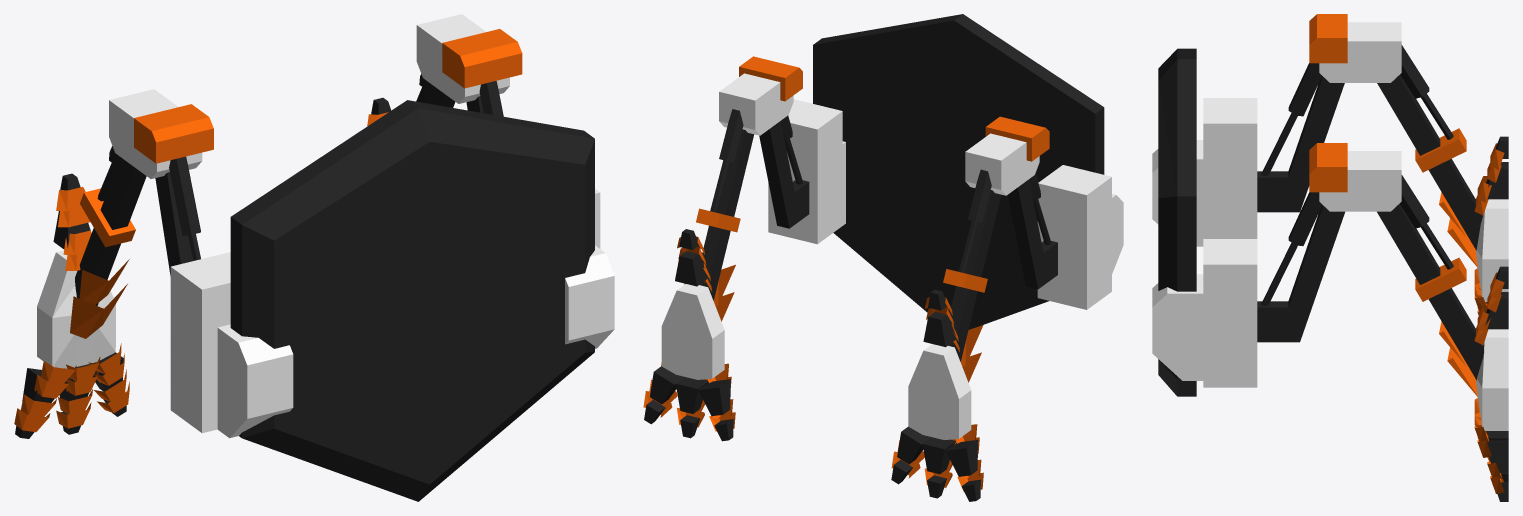
The model's file is BipedLegs.obj.
The picture shows the model from 3 angles, left to right: view 1: azimuth 30°, elevation 25°; view 2: azimuth 150°, elevation 25°; view 3: azimuth 270°, elevation 25°; orthographic projection. The views are drawn at different scales.
Parts seen in each view (by area): view 1: Base, Box002, BaseFoot, Box003, KneeCover001, KneeCover, LowerLeg, KneeJoint001, KneeJoint, Line001, UpperLegPiston, LowerLegPistonAttacher (+2 smaller); view 2: Base, Box002, Box003, BaseFoot001, BaseFoot, KneeJoint001, KneeJoint, Line001, Line008, LowerLeg001, LowerLeg, KneeCover (+15 smaller); view 3: Box003, Base, Box002, Line008, Line001, LowerLeg001, LowerLeg, KneeJoint, KneeJoint001, BaseFoot001, BaseFoot, KneeCover (+12 smaller).
Boxes of the visible parts, bbox=[...] form: Base: bbox=[230, 100, 594, 501]; Box002: bbox=[170, 252, 293, 438]; BaseFoot: bbox=[37, 250, 115, 368]; Box003: bbox=[565, 189, 614, 348]; KneeCover001: bbox=[442, 29, 522, 88]; KneeCover: bbox=[134, 104, 213, 163]; LowerLeg: bbox=[75, 157, 146, 305]; KneeJoint001: bbox=[416, 14, 509, 103]; KneeJoint: bbox=[109, 89, 202, 178]; Line001: bbox=[155, 172, 193, 275]; UpperLegPiston: bbox=[169, 156, 200, 260]; LowerLegPistonAttacher: bbox=[80, 188, 135, 247]; Base: bbox=[813, 14, 1104, 329]; Box002: bbox=[1037, 165, 1123, 309]; Box003: bbox=[768, 99, 845, 244]; BaseFoot001: bbox=[661, 284, 724, 379]; BaseFoot: bbox=[908, 344, 971, 439]; KneeJoint001: bbox=[719, 73, 793, 135]; KneeJoint: bbox=[965, 133, 1039, 195]; Line001: bbox=[1007, 179, 1057, 289]; Line008: bbox=[759, 121, 809, 228]; LowerLeg001: bbox=[699, 129, 754, 300]; LowerLeg: bbox=[948, 190, 1001, 361]; KneeCover: bbox=[985, 116, 1049, 161]; Box003: bbox=[1152, 239, 1257, 387]; Base: bbox=[1158, 48, 1196, 396]; Box002: bbox=[1152, 98, 1257, 246]; Line008: bbox=[1257, 205, 1344, 342]; Line001: bbox=[1257, 76, 1344, 212]; LowerLeg001: bbox=[1377, 204, 1483, 380]; LowerLeg: bbox=[1377, 75, 1482, 250]; KneeJoint: bbox=[1319, 22, 1401, 82]; KneeJoint001: bbox=[1319, 151, 1401, 211]; BaseFoot001: bbox=[1475, 329, 1508, 430]; BaseFoot: bbox=[1475, 199, 1508, 301]; KneeCover: bbox=[1309, 14, 1347, 63].
Bounding box in the file's own units: 0.5471 × 0.5258 × 0.4666.
